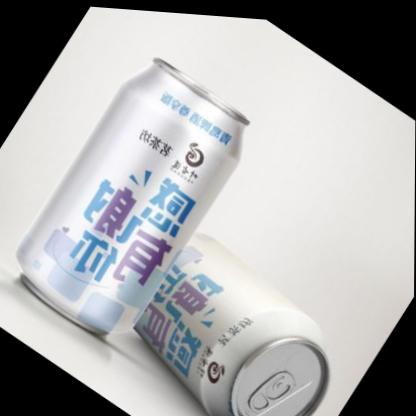metal: (18, 59, 248, 333), (135, 234, 327, 415)
